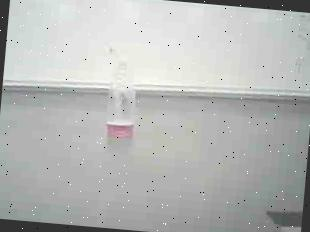hazard: (88, 40, 146, 140)
